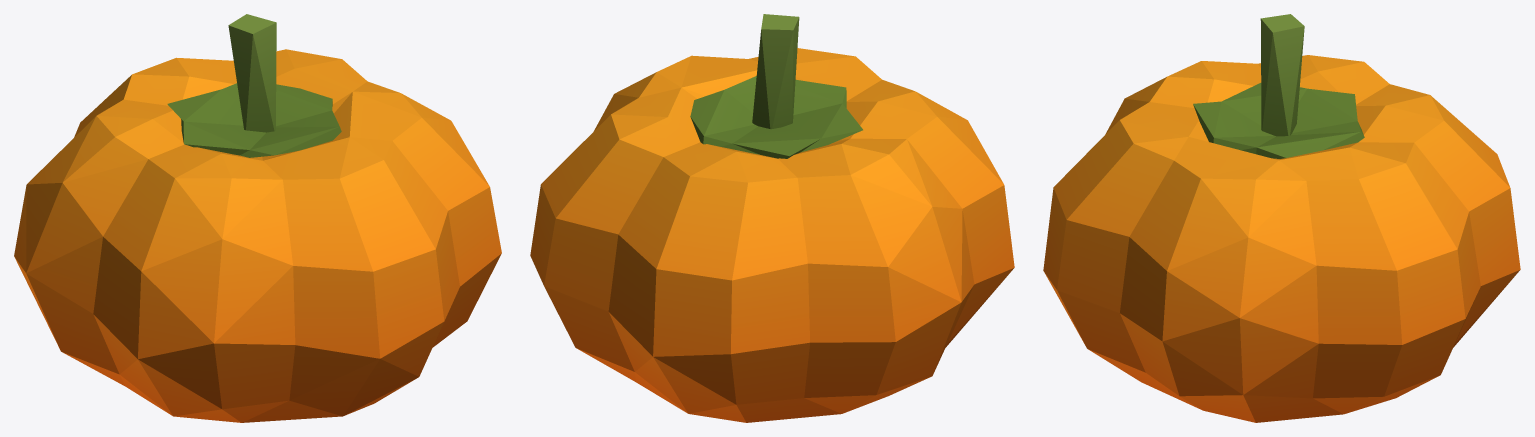
Rendered from Pumpkin.fbx.
3 renders of one model, left to right at view 1: azimuth 30°, elevation 25°; view 2: azimuth 150°, elevation 25°; view 3: azimuth 270°, elevation 25°, orthographic.
Visible parts, largest first — view 1: Pumpkin; view 2: Pumpkin; view 3: Pumpkin.
Boxes of the visible parts, <box> form: Pumpkin: <box>14,14,501,422</box>; Pumpkin: <box>530,14,1014,422</box>; Pumpkin: <box>1043,14,1520,422</box>.
Size of the model in its own units: 0.8739 by 0.7021 by 0.8781.
